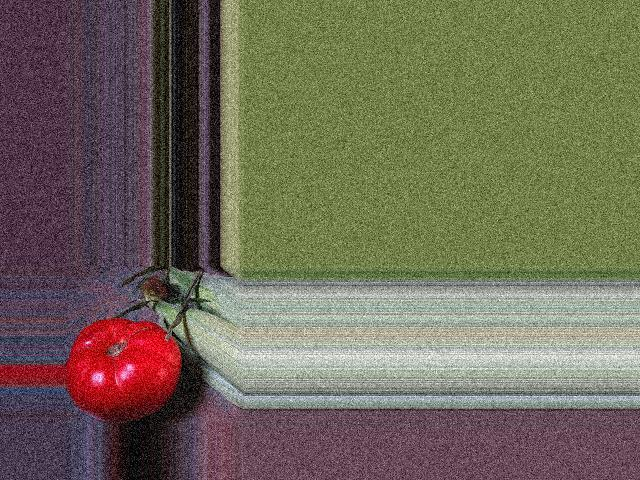tomato: (66, 318, 181, 423)
